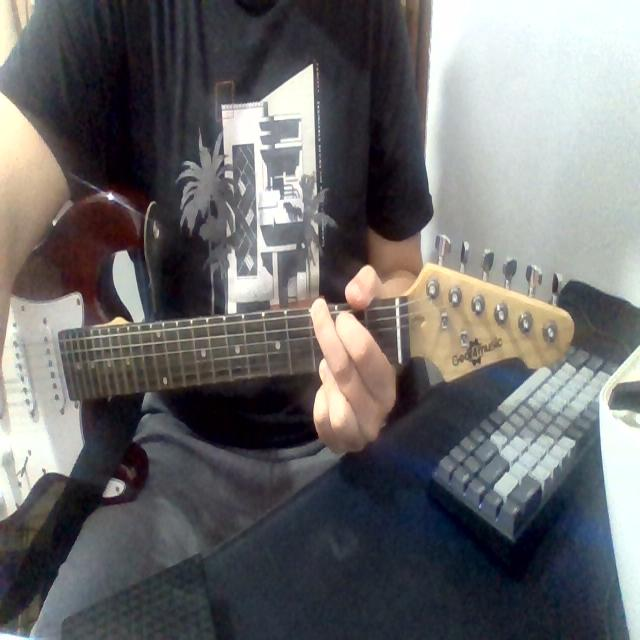G: (298, 262, 378, 439)
